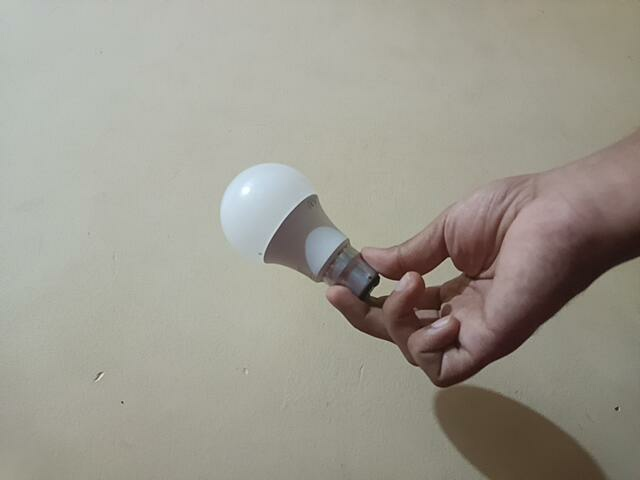Bulb: (216, 161, 383, 302)
